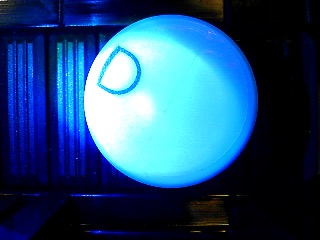MIPO1: (84, 14, 258, 188)
